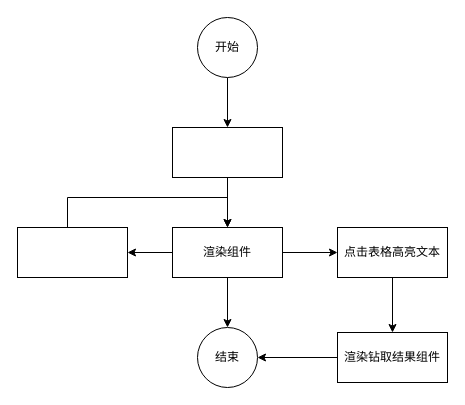
The diagram is 465 pixels wide and 405 high, and some of its shapes have lost their labels. Each missing label, with the centre of its shape:
"获取方案" goes at (227,152).
"过滤数据源" goes at (72,252).
